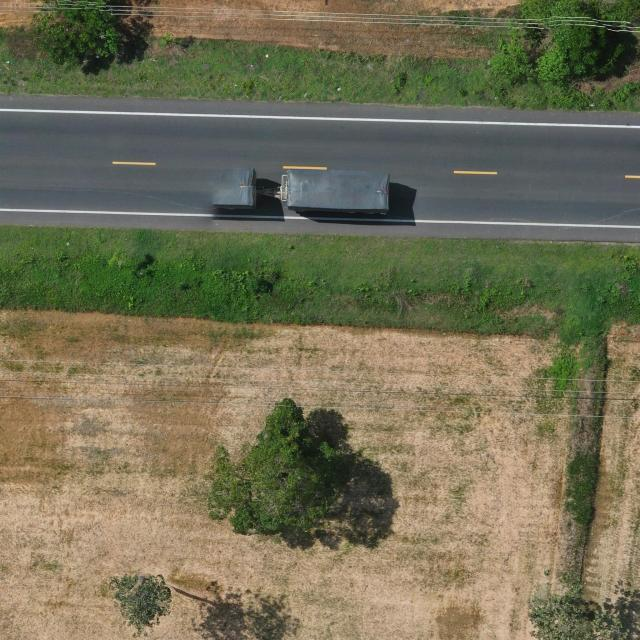Tree: (208, 397, 350, 536), (549, 0, 628, 78), (527, 581, 630, 640), (32, 0, 119, 66), (109, 573, 173, 638), (488, 36, 535, 82), (533, 46, 572, 82)
